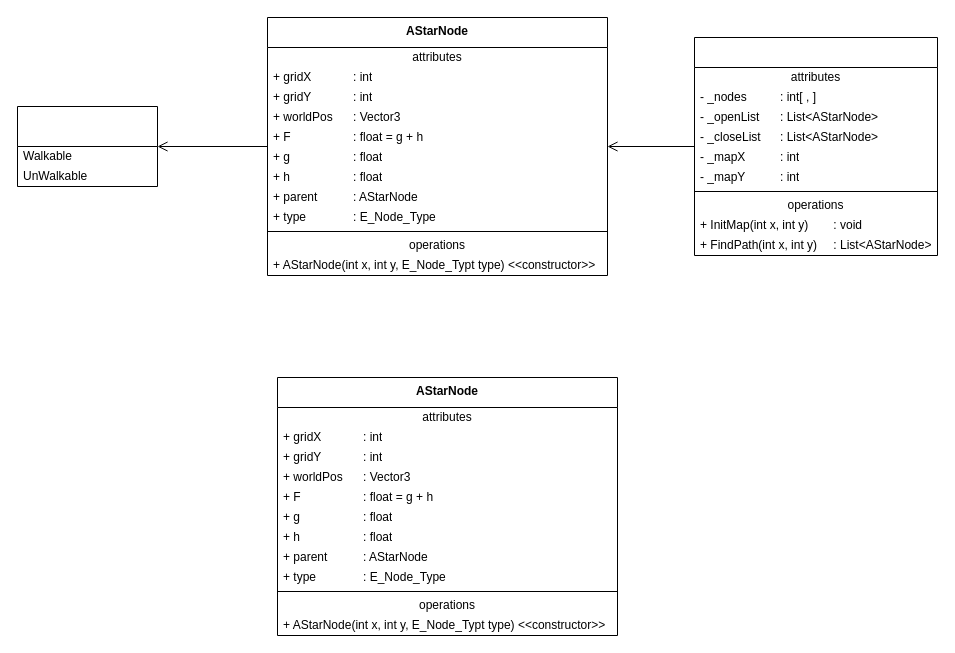
Some shapes in this 955 by 653 pixel diagram are drawn without their labels. Here are the shapes that lost their labels. From the top down, the box of each, then its label:
(16, 106, 158, 186): <<enumeration>> E_Node_Type
(694, 36, 938, 256): AStarManager
